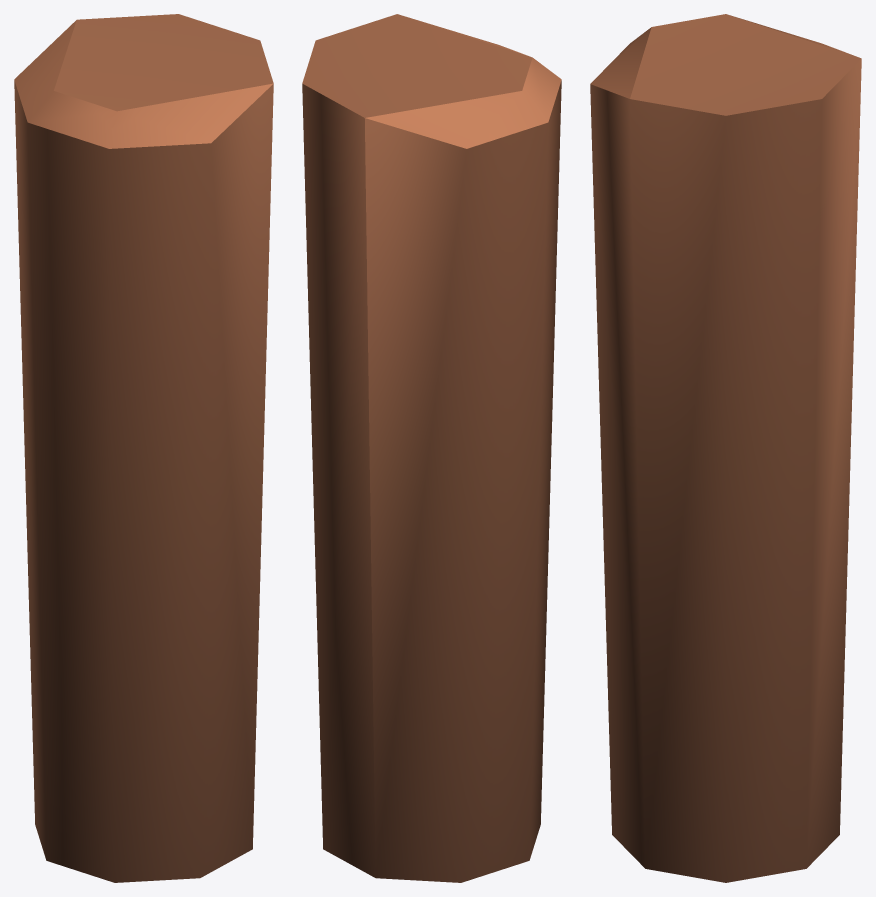
Rendered from fenceclean.glb.
3 renders of one model, left to right at view 1: azimuth 30°, elevation 25°; view 2: azimuth 150°, elevation 25°; view 3: azimuth 270°, elevation 25°, orthographic.
Visible parts, largest first — view 1: fenceclean; view 2: fenceclean; view 3: fenceclean.
Boxes of the visible parts, left/top/right/bottom form: fenceclean: left=14, top=14, right=273, bottom=882; fenceclean: left=302, top=14, right=561, bottom=882; fenceclean: left=590, top=14, right=861, bottom=882.
Size of the model in its own units: 0.2468 by 0.7784 by 0.2468.
Materials: 1 (1 with a texture image).
